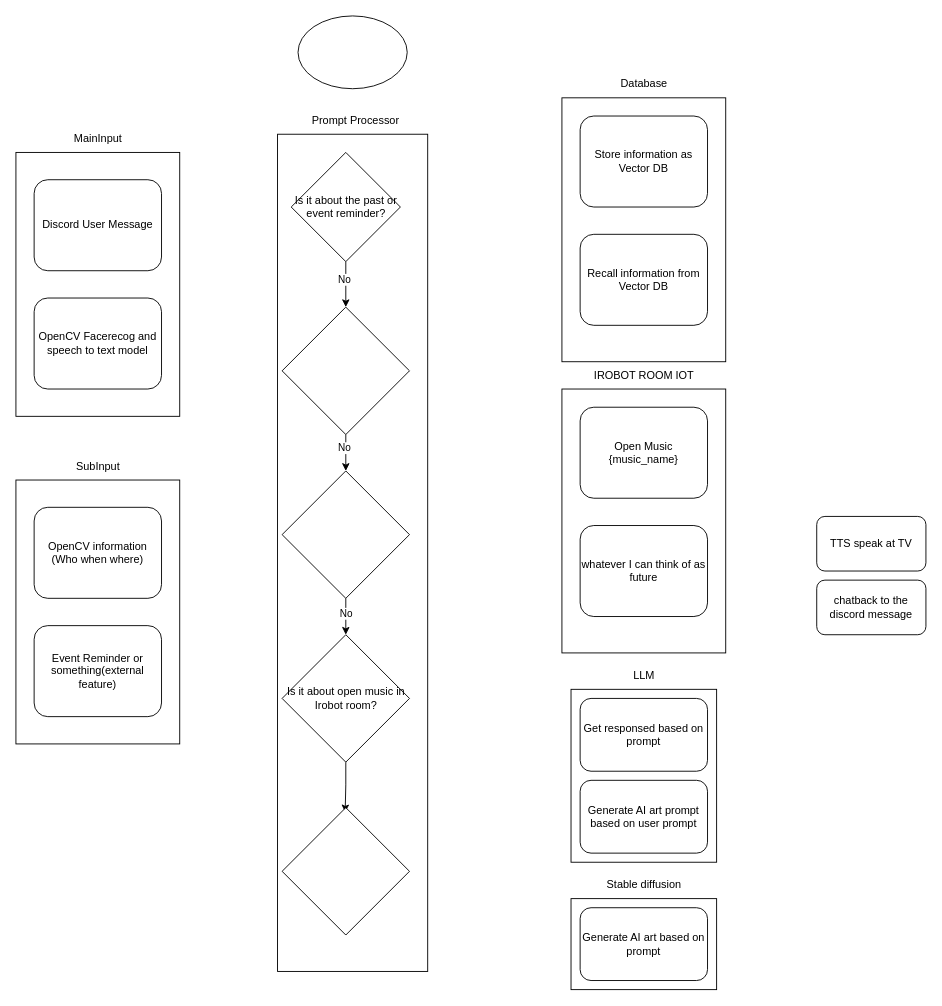
Some shapes in this 942 by 1006 pixel diagram are drawn without their labels. The box of each missing label's shape, as (x1, y1, x2, y2) in pixels:
Is it about command any IOT thing in Irobot?: (281, 470, 410, 598)
Is it about current event that happend in room?: (281, 306, 410, 435)
Is it about generate AI art?: (281, 807, 410, 935)
Start: (297, 15, 407, 89)
